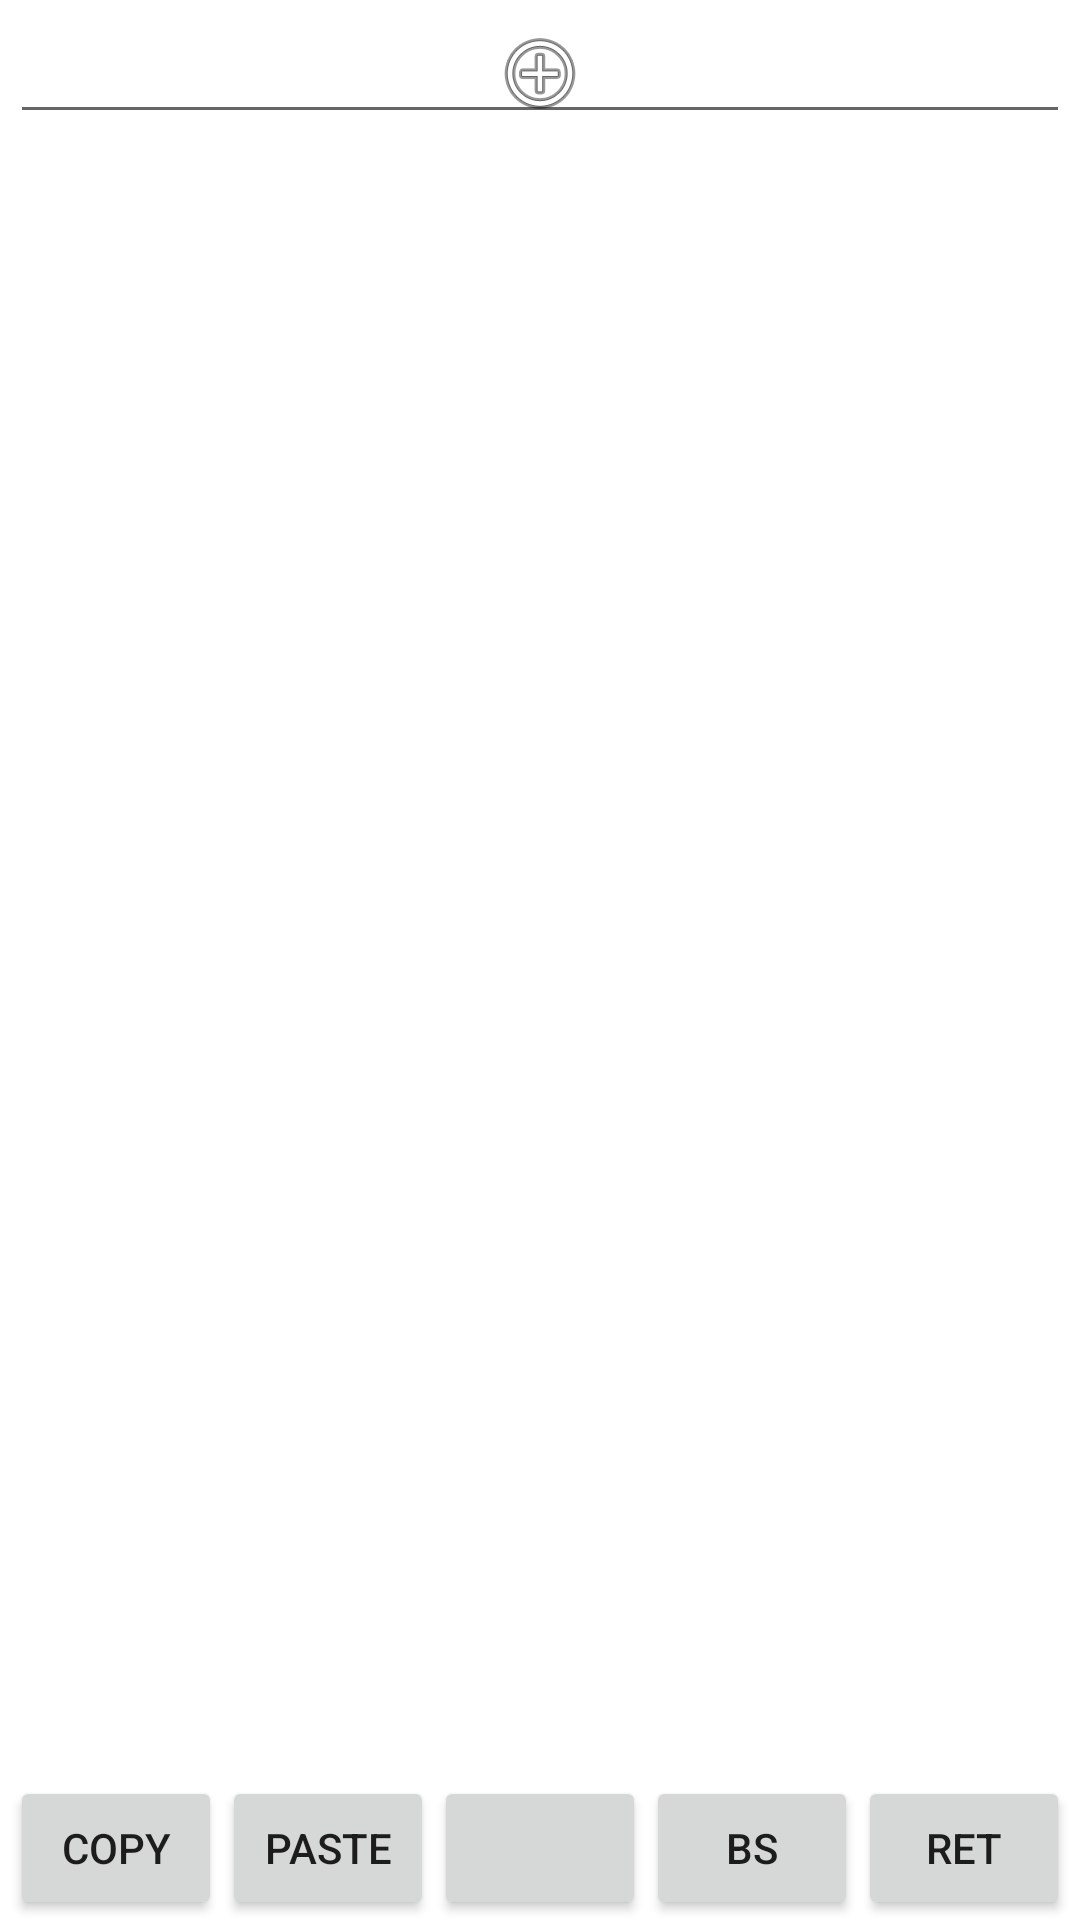

Named icons in this screenshot (1080px×1920px) and their centers, point (x, y):
add: point (540, 74)
